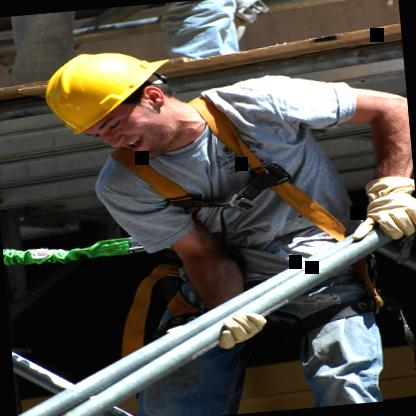helmet: (26, 27, 218, 169)
